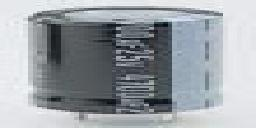Electrolytic-Capacitor: (24, 4, 230, 117)
